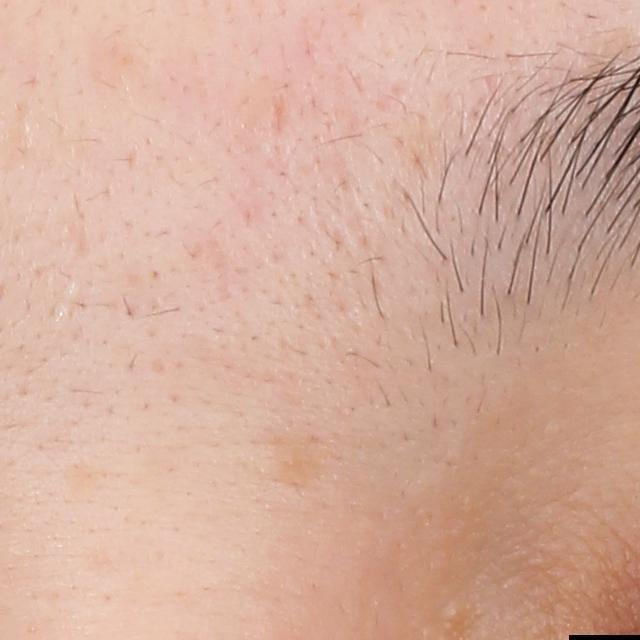atrophic_scar: (86, 42, 162, 97), (271, 91, 290, 143)
